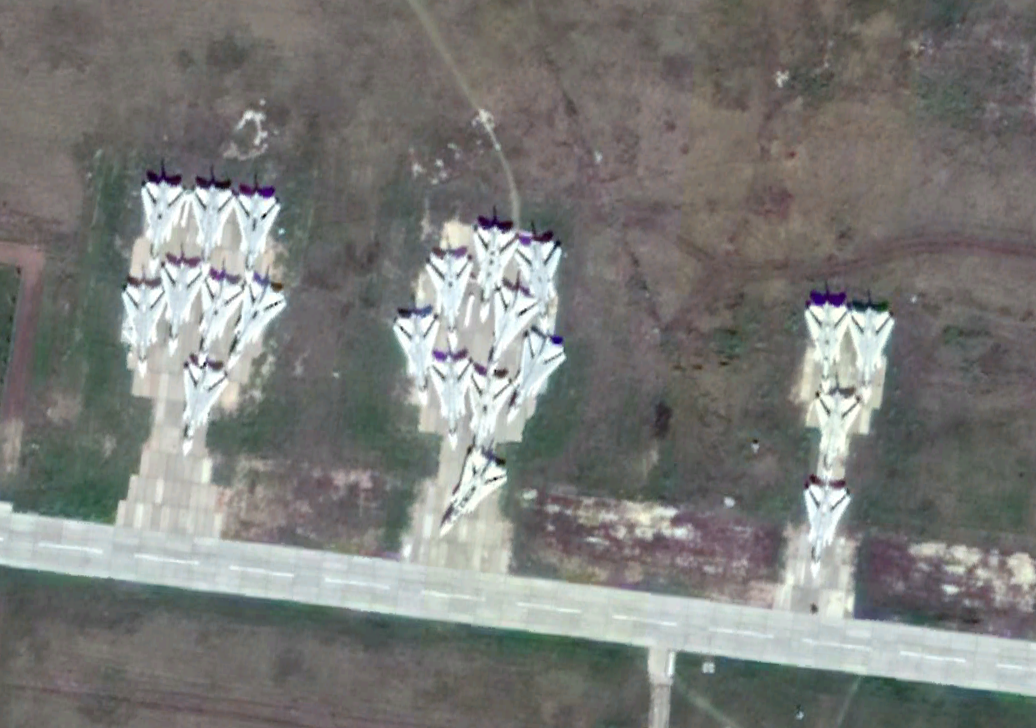A20: (435, 442, 510, 538), (503, 328, 569, 426), (172, 361, 229, 460), (798, 477, 850, 584), (467, 222, 520, 323), (118, 274, 168, 381), (484, 284, 539, 380), (425, 352, 476, 451), (226, 279, 287, 357), (806, 290, 855, 387), (847, 297, 896, 394), (156, 257, 204, 355), (139, 170, 188, 258), (514, 238, 562, 326), (391, 309, 439, 397), (425, 250, 474, 336), (813, 387, 863, 471), (197, 275, 244, 359), (231, 191, 282, 268), (187, 183, 236, 261), (465, 372, 513, 448)
